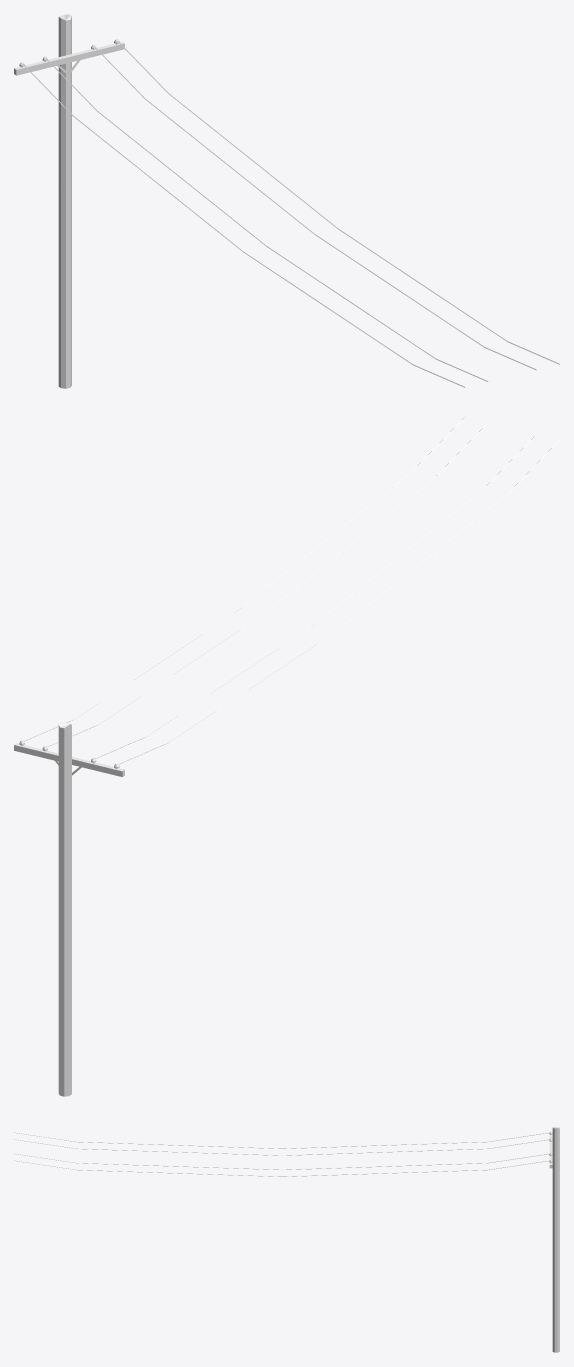
Rendered from Bld_Power_Line_Joined_01.glb.
3 views of the same model, one above another, from view 1: azimuth 30°, elevation 25°; view 2: azimuth 150°, elevation 25°; view 3: azimuth 270°, elevation 25° (orthographic). The views are drawn at different scales.
Parts seen in each view (by area): view 1: Bld_Power Line_Joined_01; view 2: Bld_Power Line_Joined_01; view 3: Bld_Power Line_Joined_01.
Part boxes in pixels (x1,y1,x2,y2): Bld_Power Line_Joined_01: (14,14,559,388); Bld_Power Line_Joined_01: (14,417,559,1096); Bld_Power Line_Joined_01: (14,1125,559,1352).
Bounding box in the file's own units: 2.15 × 7 × 15.45.
Materials: 1 (1 with a texture image).
